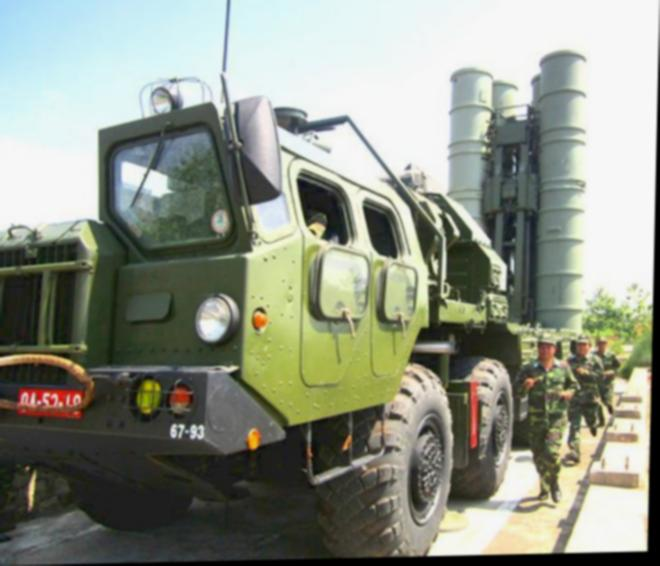License_Plate: (14, 384, 84, 418)
